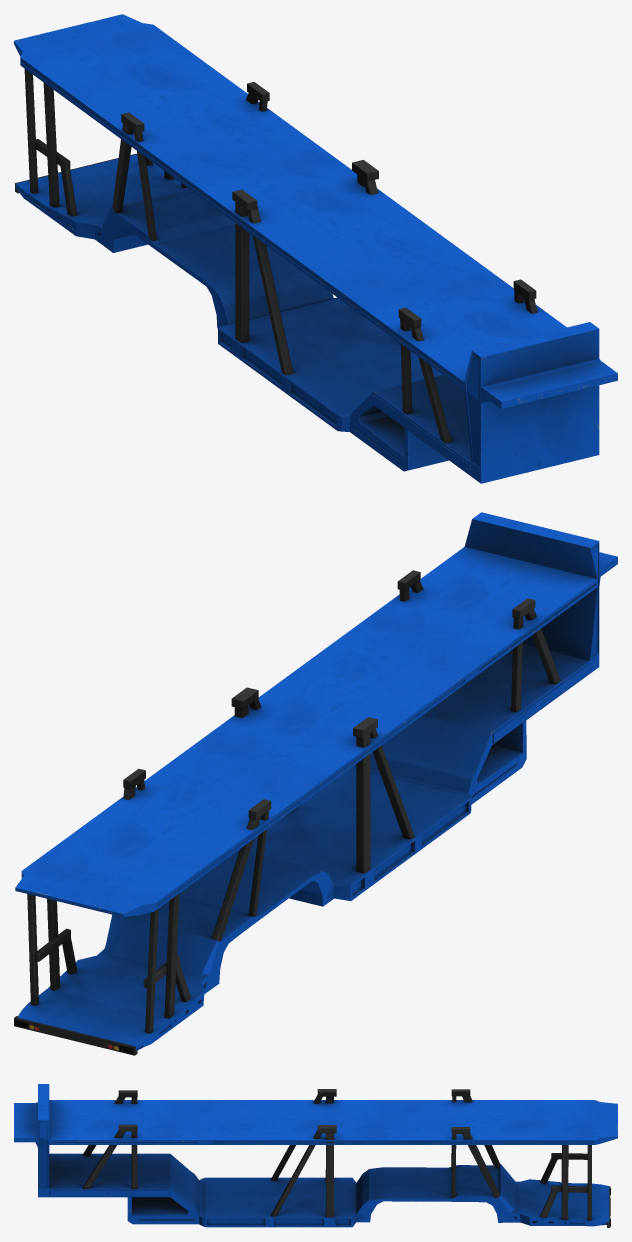
Rendered from transporterLoad.fbx.
The picture shows the model from 3 angles, top to bottom: view 1: azimuth 30°, elevation 25°; view 2: azimuth 150°, elevation 25°; view 3: azimuth 270°, elevation 25°; orthographic projection. The views are drawn at different scales.
Visible parts, largest first — view 1: TRNSPRTER; view 2: TRNSPRTER; view 3: TRNSPRTER.
Boxes of the visible parts, <box> form: TRNSPRTER: <box>14,14,617,483</box>; TRNSPRTER: <box>14,512,617,1055</box>; TRNSPRTER: <box>14,1084,617,1227</box>.
Bounding box in the file's own units: 315 × 394 × 2006.
